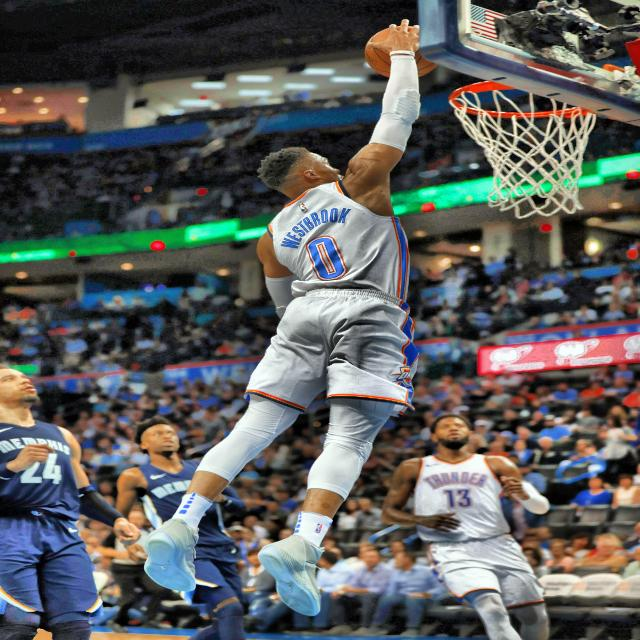board: (351, 22, 441, 81)
rim: (449, 80, 596, 218)
